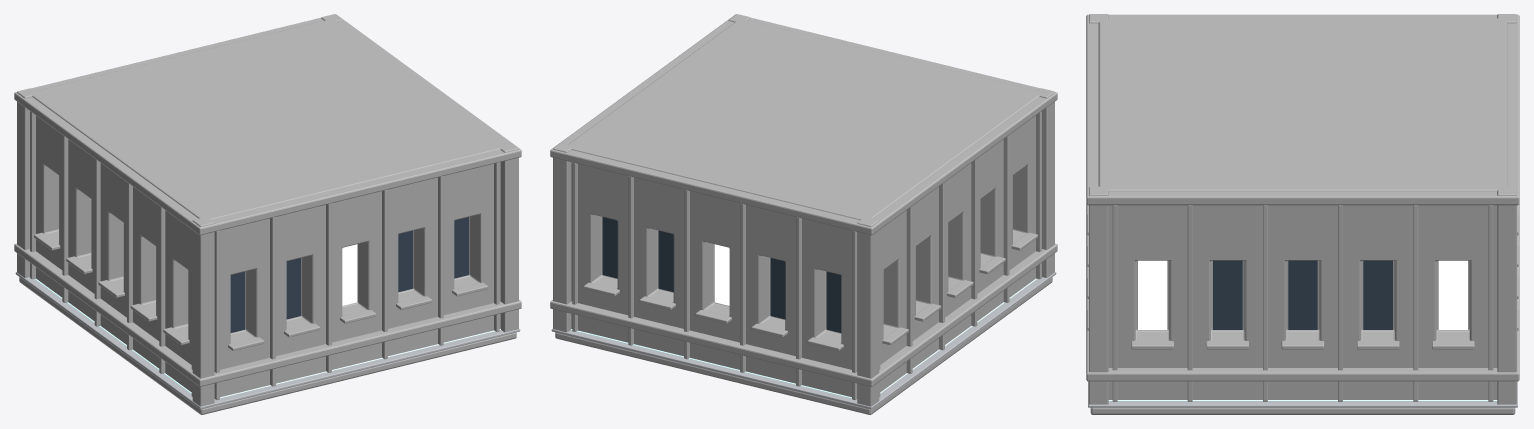
Rendered from concrete_5x5.glb.
The picture shows the model from 3 angles, left to right: view 1: azimuth 30°, elevation 25°; view 2: azimuth 150°, elevation 25°; view 3: azimuth 270°, elevation 25°; orthographic projection. The views are drawn at different scales.
Parts seen in each view (by area): view 1: ext_wall, int_ceiling, ext_frames, ext_ledge_top, int_columns, ext_ledge_mid, int_slab_edge, ext_panes_dark, int_slab, ext_panes_lit, int_grid; view 2: ext_wall, int_ceiling, ext_frames, ext_ledge_top, int_columns, ext_ledge_mid, int_slab_edge, ext_panes_dark, int_slab, ext_panes_lit, int_grid; view 3: int_ceiling, ext_wall, ext_ledge_top, ext_frames, int_columns, ext_ledge_mid, ext_panes_dark, ext_panes_lit, int_slab, int_slab_edge.
Part boxes in pixels (<box>): ext_wall: <box>36,115,500,397</box>; int_ceiling: <box>30,19,502,220</box>; ext_frames: <box>30,111,499,399</box>; ext_ledge_top: <box>14,14,521,235</box>; int_columns: <box>17,14,518,406</box>; ext_ledge_mid: <box>14,243,521,386</box>; int_slab_edge: <box>15,272,520,409</box>; ext_panes_dark: <box>230,217,469,332</box>; int_slab: <box>19,277,516,414</box>; ext_panes_lit: <box>342,244,357,305</box>; int_grid: <box>35,278,500,399</box>; ext_wall: <box>571,115,1035,397</box>; int_ceiling: <box>569,19,1041,220</box>; ext_frames: <box>572,111,1041,399</box>; ext_ledge_top: <box>550,14,1057,235</box>; int_columns: <box>553,14,1054,406</box>; ext_ledge_mid: <box>550,243,1057,386</box>; int_slab_edge: <box>551,272,1056,409</box>; ext_panes_dark: <box>602,217,841,332</box>; int_slab: <box>555,277,1052,414</box>; ext_panes_lit: <box>714,244,729,305</box>; int_grid: <box>571,278,1036,399</box>; int_ceiling: <box>1098,18,1507,191</box>; ext_wall: <box>1108,205,1497,399</box>; ext_ledge_top: <box>1086,14,1519,205</box>; ext_frames: <box>1087,205,1518,401</box>; int_columns: <box>1089,14,1516,404</box>; ext_ledge_mid: <box>1086,204,1519,381</box>; ext_panes_dark: <box>1213,260,1392,329</box>; ext_panes_lit: <box>1138,260,1467,329</box>; int_slab: <box>1090,407,1515,414</box>; int_slab_edge: <box>1088,381,1517,407</box>.
Bounding box in the file's own units: 5.3 × 3 × 5.3.
